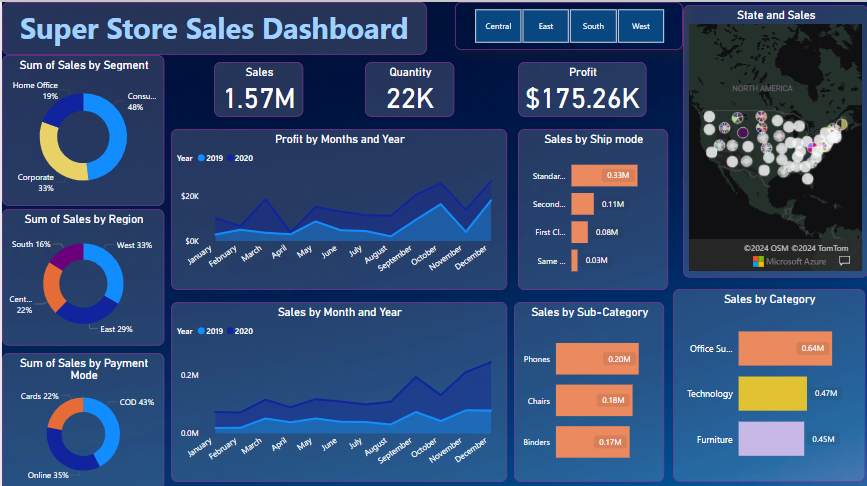

This screenshot's page, from the dashboard's own definition file:
{"tool":"powerbi","page":{"name":"Page 1","canvas":[1280,720],"ordinal":0},"visuals":[{"type":"clusteredBarChart","title":"Sales by Category","fields":{"Category":["Sheet1.Category"],"Y":["Sum(Sheet1.Sales)"]},"box":[992.2,424.8,283.7,285.1],"z":0},{"type":"clusteredBarChart","title":"Sales by Sub-Category","fields":{"Y":["Sum(Sheet1.Sales)"],"Category":["Sheet1.Sub-Category"]},"box":[757.4,443.5,221.8,266.4],"z":1000},{"type":"clusteredBarChart","title":"Sales by Ship mode","fields":{"Y":["Sum(Sheet1.Sales)"],"Category":["Sheet1.Ship Mode"]},"box":[763.2,187.2,221.8,237.6],"z":2000},{"type":"stackedAreaChart","title":"Sales by Month and Year","fields":{"Y":["Sum(Sheet1.Sales)"],"Category":["Sheet1.Order Date.Variation.Date Hierarchy.Month"],"Series":["Sheet1.Order Date.Variation.Date Hierarchy.Year"]},"box":[250.6,443.5,496.8,266.4],"z":3000},{"type":"stackedAreaChart","title":"Profit by Months and Year","fields":{"Category":["Sheet1.Order Date.Variation.Date Hierarchy.Month"],"Y":["Sum(Sheet1.Profit)"],"Series":["Sheet1.Order Date.Variation.Date Hierarchy.Year"]},"box":[250.6,187.2,496.8,237.6],"z":4000},{"type":"donutChart","fields":{"Category":["Sheet1.Segment"],"Y":["Sum(Sheet1.Sales)"]},"box":[0,77.8,240.5,223.2],"z":5000},{"type":"donutChart","fields":{"Category":["Sheet1.Region"],"Y":["Sum(Sheet1.Sales)"]},"box":[0,306.7,240.5,201.6],"z":6000},{"type":"slicer","fields":{"Values":["Sheet1.Region"]},"box":[669.6,0,337,70.6],"z":7000},{"type":"textbox","box":[0,0,627.8,77.8],"z":8000},{"type":"card","title":"Sales","fields":{"Values":["Sum(Sheet1.Sales)"]},"box":[313.9,89.3,185.8,80.6],"z":9000},{"type":"card","title":"Quantity","fields":{"Values":["Sum(Sheet1.Quantity)"]},"box":[537.1,89.3,132.5,80.6],"z":10000},{"type":"card","title":"Profit","fields":{"Values":["Sum(Sheet1.Profit)"]},"box":[763.2,89.3,190.1,80.6],"z":11000},{"type":"azureMap","fields":{"Series":["Sheet1.Sales"],"Category":["Sheet1.State"]},"box":[1006.6,4.3,273.6,403.2],"z":12000},{"type":"donutChart","fields":{"Y":["Sum(Sheet1.Sales)"],"Category":["Sheet1.Payment Mode"]},"box":[0,518.4,240.5,201.6],"z":12001}]}

Visuals, with their boxes in screenshot pixels (x1, y1, x2, y2), scaled from the page's 1280x720 canvas onto the 867x486 screenshot:
"Sales by Category" clusteredBarChart: BBox(672, 287, 864, 479)
"Sales by Sub-Category" clusteredBarChart: BBox(513, 299, 663, 479)
"Sales by Ship mode" clusteredBarChart: BBox(517, 126, 667, 287)
"Sales by Month and Year" stackedAreaChart: BBox(170, 299, 506, 479)
"Profit by Months and Year" stackedAreaChart: BBox(170, 126, 506, 287)
donutChart - Sheet1.Segment x Sum(Sheet1.Sales): BBox(0, 53, 163, 203)
donutChart - Sheet1.Region x Sum(Sheet1.Sales): BBox(0, 207, 163, 343)
slicer - Sheet1.Region: BBox(454, 0, 682, 48)
textbox: BBox(0, 0, 425, 53)
"Sales" card: BBox(213, 60, 338, 115)
"Quantity" card: BBox(364, 60, 454, 115)
"Profit" card: BBox(517, 60, 646, 115)
azureMap - Sheet1.Sales x Sheet1.State: BBox(682, 3, 866, 275)
donutChart - Sum(Sheet1.Sales) x Sheet1.Payment Mode: BBox(0, 350, 163, 485)
